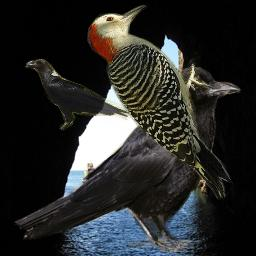Crow: (14, 67, 241, 252), (24, 59, 132, 132)
Woodpecker: (84, 5, 234, 200)
